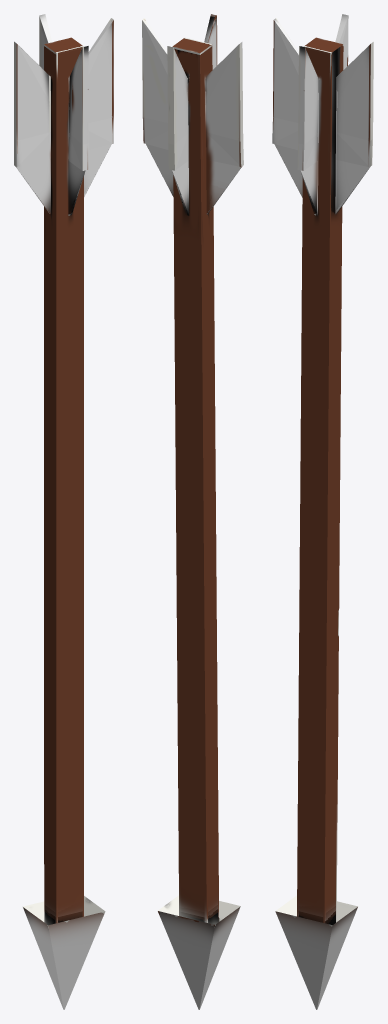
The model's file is Arrow.dae.
3 renders of one model, left to right at view 1: azimuth 30°, elevation 25°; view 2: azimuth 150°, elevation 25°; view 3: azimuth 330°, elevation 25°, orthographic.
Parts seen in each view (by area): view 1: Cube.001; view 2: Cube.001; view 3: Cube.001.
Part boxes in pixels (left/top/right/bottom): Cube.001: left=14, top=14, right=113, bottom=1009; Cube.001: left=142, top=14, right=243, bottom=1009; Cube.001: left=272, top=14, right=373, bottom=1009.
Bounding box in the file's own units: 0.1133 × 0.0885 × 1.08.
1 material, 1 textured.
